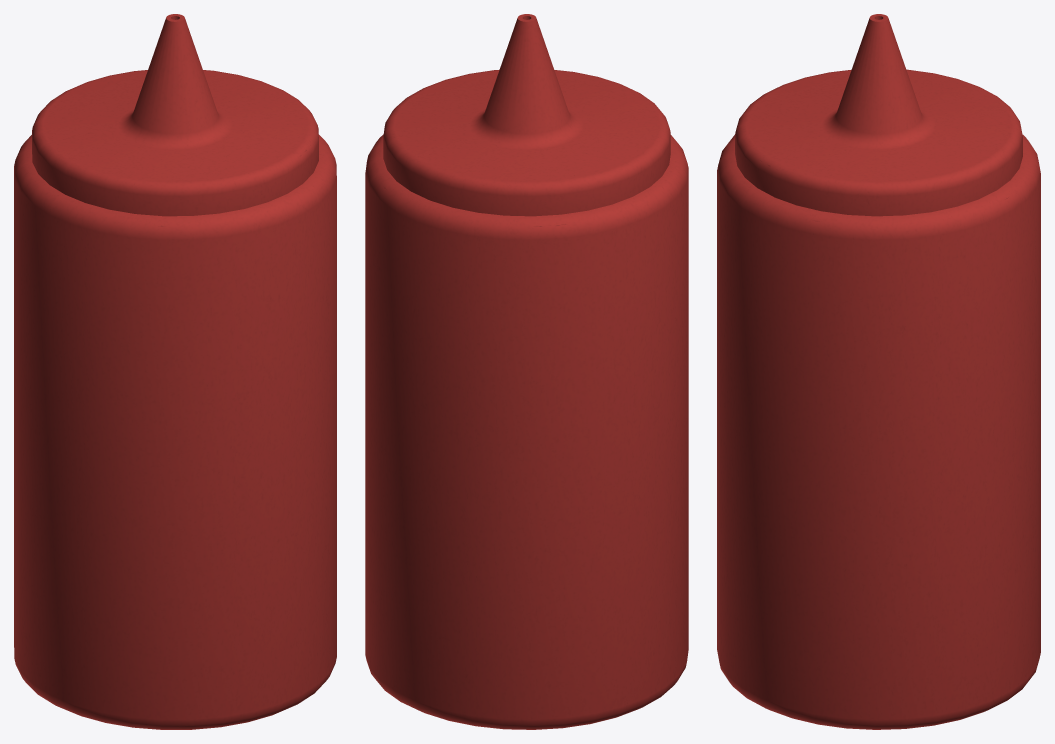
Rendered from KitchenCondimentBottle2.fbx.
3 renders of one model, left to right at view 1: azimuth 30°, elevation 25°; view 2: azimuth 150°, elevation 25°; view 3: azimuth 270°, elevation 25°, orthographic.
Visible parts, largest first — view 1: KitchenCondimentBottle2_Baked; view 2: KitchenCondimentBottle2_Baked; view 3: KitchenCondimentBottle2_Baked.
Boxes of the visible parts, box(x1,y1,x2,y2) form: KitchenCondimentBottle2_Baked: box(14, 14, 336, 729); KitchenCondimentBottle2_Baked: box(365, 14, 688, 729); KitchenCondimentBottle2_Baked: box(717, 14, 1040, 729).
Size of the model in its own units: 7.19 by 15.92 by 7.19.
1 material, 1 textured.
